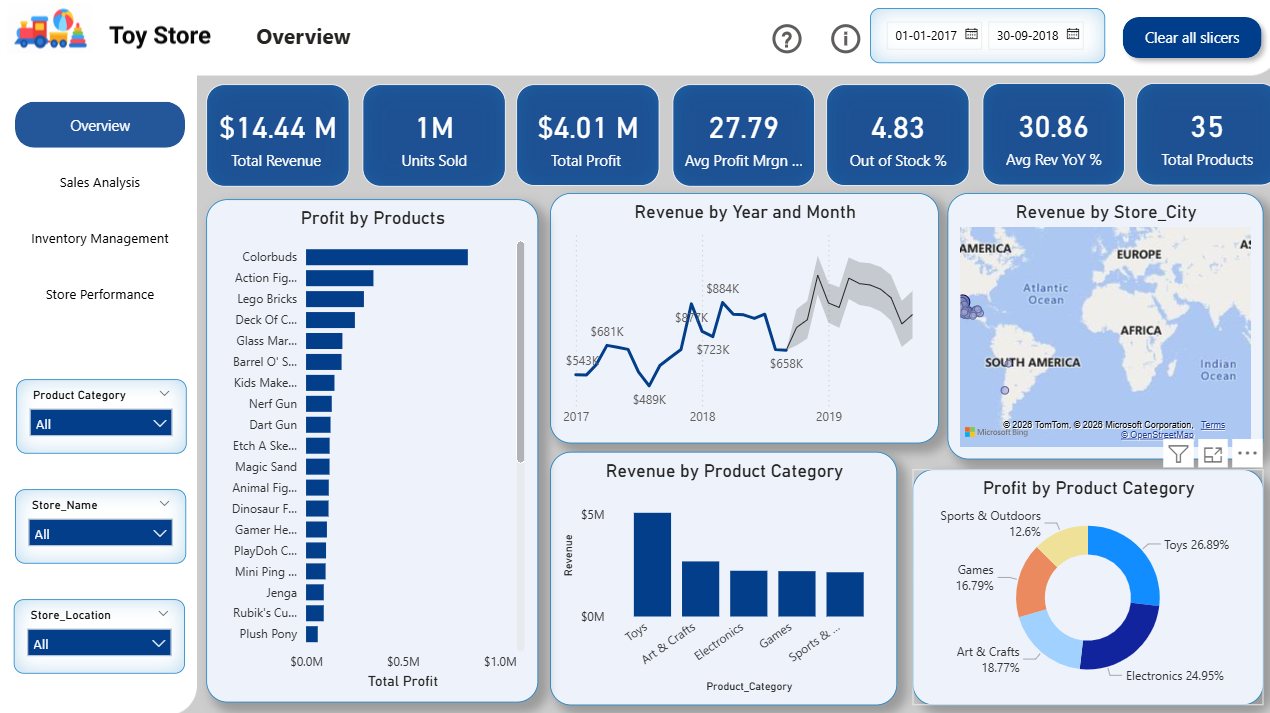

Layout of this report page (visuals, bound fields, positions):
{"tool":"powerbi","page":{"name":"Overview","canvas":[1280,720],"ordinal":0},"visuals":[{"type":"card","fields":{"Values":["sales.Total Revenue KPI"]},"box":[206.3,86.9,143.6,102.5],"z":0},{"type":"card","fields":{"Values":["Sum(sales.Units)"]},"box":[361.9,86.9,143.6,102],"z":1000},{"type":"card","fields":{"Values":["sales.total profit kpi"]},"box":[516.4,86.9,143.6,101.3],"z":2000},{"type":"card","fields":{"Values":["sales.Average Profit Margin %"]},"box":[672,85.7,142.4,102.5],"z":3000},{"type":"card","fields":{"Values":["inventory.Out of Stock %"]},"box":[826.4,85.7,143.6,101.3],"z":4000},{"type":"card","fields":{"Values":["sales.Average YoY % Revenue"]},"box":[982,84.5,142.4,102.5],"z":5000},{"type":"lineChart","title":"Revenue by Year and Month","fields":{"Y":["sales.Total Revenue"],"Category":["Date.Date.Variation.Date Hierarchy.Year","Date.Date.Variation.Date Hierarchy.Month"]},"box":[550,195,388.8,250],"z":6000},{"type":"map","title":"Revenue by Store_City","fields":{"Category":["stores.Store_City"],"Size":["sales.Total Revenue"]},"box":[947.1,195.4,316.1,266.6],"z":7000},{"type":"clusteredColumnChart","title":"Revenue by Product Category","fields":{"Category":["products.Product_Category"],"Y":["sales.Total Revenue"]},"box":[550,453.8,347.5,253.8],"z":8000},{"type":"donutChart","title":"Profit by Product Category","fields":{"Category":["products.Product_Category"],"Y":["sales.Total Profit"]},"box":[912.5,471.2,351.2,236.2],"z":9000},{"type":"clusteredBarChart","title":"Profit by Products","fields":{"Category":["products.Product_Name"],"Y":["sales.Total Profit"]},"box":[206.3,201.5,331.8,503.1],"z":10000},{"type":"pageNavigator","box":[14.5,103.8,170.1,217.2],"z":11000},{"type":"slicer","fields":{"Values":["sales.Date"]},"box":[869.8,9.7,235.3,55],"z":12000},{"type":"slicer","fields":{"Values":["products.Product_Category"]},"box":[15.7,381,170.1,74.8],"z":13000},{"type":"slicer","fields":{"Values":["stores.Store_Name"]},"box":[14.5,490.9,171.3,74.8],"z":14000},{"type":"slicer","fields":{"Values":["stores.Store_Location"]},"box":[13.3,600.8,171.3,74.8],"z":15000},{"type":"textbox","box":[250.9,16.9,130.3,42.2],"z":16000},{"type":"actionButton","box":[1113.5,9.7,156.8,59.1],"z":17000},{"type":"card","fields":{"Values":["CountNonNull(products.Product_ID)"]},"box":[1136.5,84.5,142.4,102.5],"z":18000},{"type":"actionButton","box":[826.8,20.7,40.2,39],"z":19000},{"type":"actionButton","box":[767.1,20.7,50,39],"z":21000}]}

Visuals, with their boxes on the page's 1280x720 design canvas (x1, y1, x2, y2). These are canvas units, not pixel positions in the 1270x713 screenshot, which may show the page scaled, cropped or inside an application window:
card - sales.Total Revenue KPI: {"left": 206, "top": 87, "right": 350, "bottom": 189}
card - Sum(sales.Units): {"left": 362, "top": 87, "right": 506, "bottom": 189}
card - sales.total profit kpi: {"left": 516, "top": 87, "right": 660, "bottom": 188}
card - sales.Average Profit Margin %: {"left": 672, "top": 86, "right": 814, "bottom": 188}
card - inventory.Out of Stock %: {"left": 826, "top": 86, "right": 970, "bottom": 187}
card - sales.Average YoY % Revenue: {"left": 982, "top": 84, "right": 1124, "bottom": 187}
"Revenue by Year and Month" lineChart: {"left": 550, "top": 195, "right": 939, "bottom": 445}
"Revenue by Store_City" map: {"left": 947, "top": 195, "right": 1263, "bottom": 462}
"Revenue by Product Category" clusteredColumnChart: {"left": 550, "top": 454, "right": 898, "bottom": 708}
"Profit by Product Category" donutChart: {"left": 912, "top": 471, "right": 1264, "bottom": 707}
"Profit by Products" clusteredBarChart: {"left": 206, "top": 202, "right": 538, "bottom": 705}
pageNavigator: {"left": 14, "top": 104, "right": 185, "bottom": 321}
slicer - sales.Date: {"left": 870, "top": 10, "right": 1105, "bottom": 65}
slicer - products.Product_Category: {"left": 16, "top": 381, "right": 186, "bottom": 456}
slicer - stores.Store_Name: {"left": 14, "top": 491, "right": 186, "bottom": 566}
slicer - stores.Store_Location: {"left": 13, "top": 601, "right": 185, "bottom": 676}
textbox: {"left": 251, "top": 17, "right": 381, "bottom": 59}
actionButton: {"left": 1114, "top": 10, "right": 1270, "bottom": 69}
card - CountNonNull(products.Product_ID): {"left": 1136, "top": 84, "right": 1279, "bottom": 187}
actionButton: {"left": 827, "top": 21, "right": 867, "bottom": 60}
actionButton: {"left": 767, "top": 21, "right": 817, "bottom": 60}
